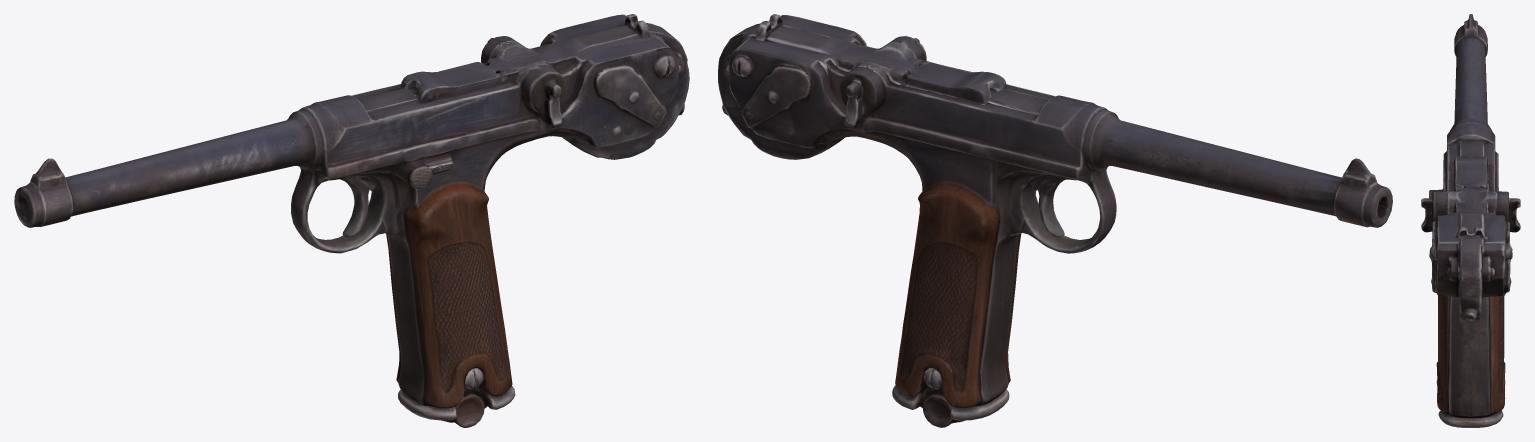
The model's file is borchardt.glb.
The picture shows the model from 3 angles, left to right: view 1: azimuth 30°, elevation 25°; view 2: azimuth 150°, elevation 25°; view 3: azimuth 270°, elevation 25°; orthographic projection. The views are drawn at different scales.
Visible parts, largest first — view 1: tripo_node_234c435f; view 2: tripo_node_234c435f; view 3: tripo_node_234c435f.
Boxes of the visible parts, box(x1,y1,x2,y2) form: tripo_node_234c435f: box(14, 14, 689, 427); tripo_node_234c435f: box(718, 14, 1392, 427); tripo_node_234c435f: box(1421, 14, 1520, 427).
Size of the model in its own units: 0.4817 by 0.25 by 0.0854.
1 material, 1 textured.
